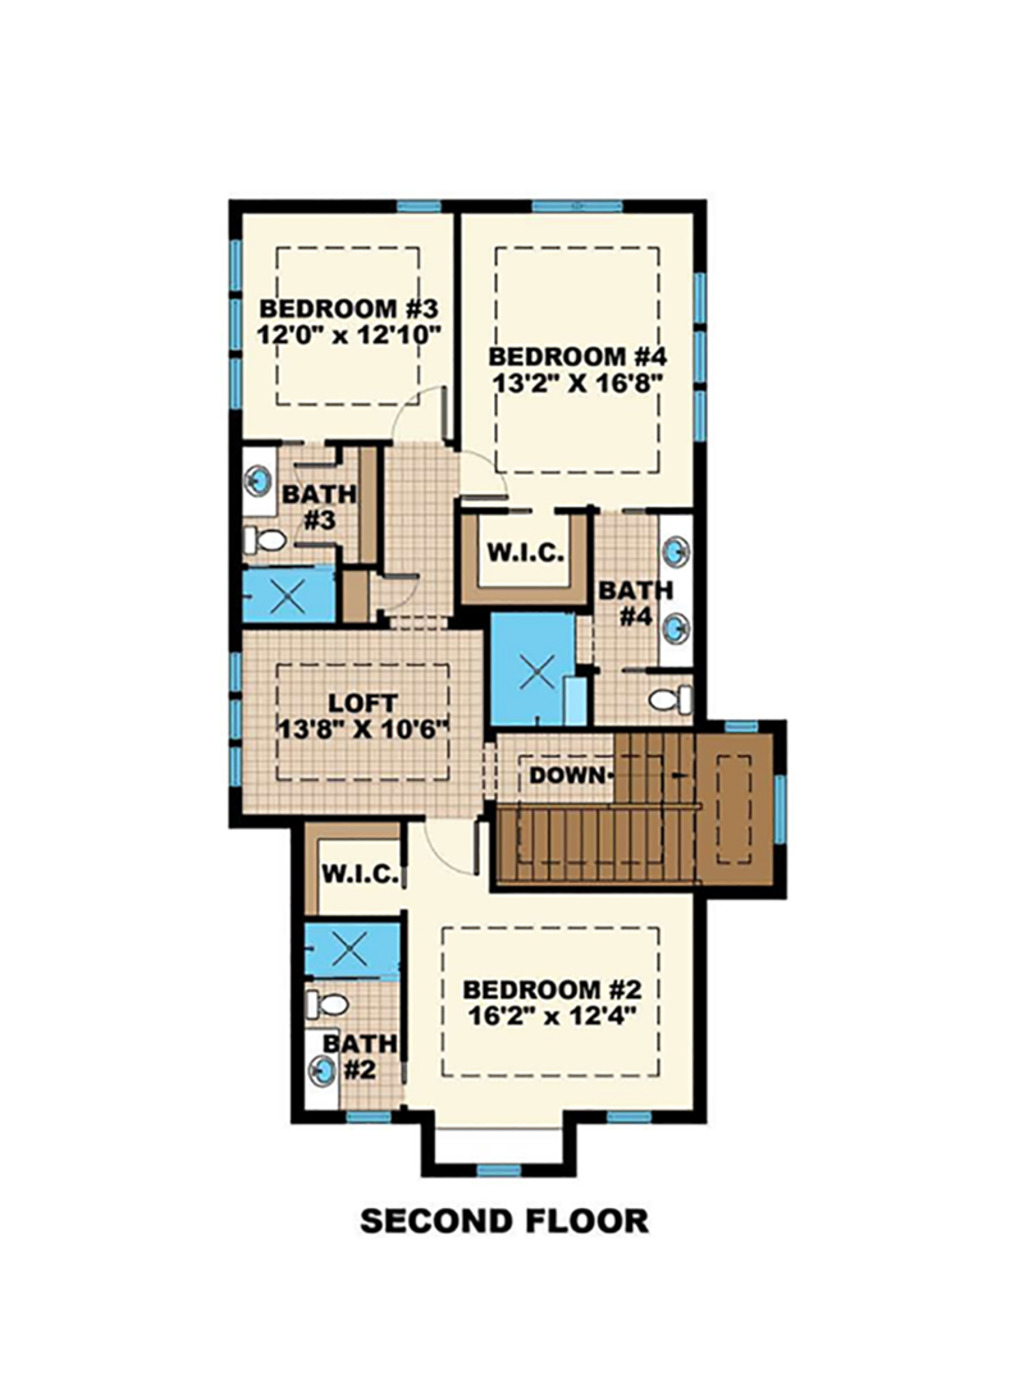door: (422, 817, 488, 883), (388, 383, 454, 444), (455, 442, 510, 509), (374, 567, 426, 609)
large_sink: (641, 672, 701, 718), (297, 981, 352, 1027), (241, 518, 291, 558)
small_sink: (652, 509, 692, 667), (297, 1033, 345, 1104), (239, 443, 278, 512)
stairs: (486, 737, 777, 893)
windows: (223, 237, 244, 411), (226, 644, 248, 793), (686, 268, 705, 446), (526, 194, 632, 220), (472, 1158, 524, 1183)
